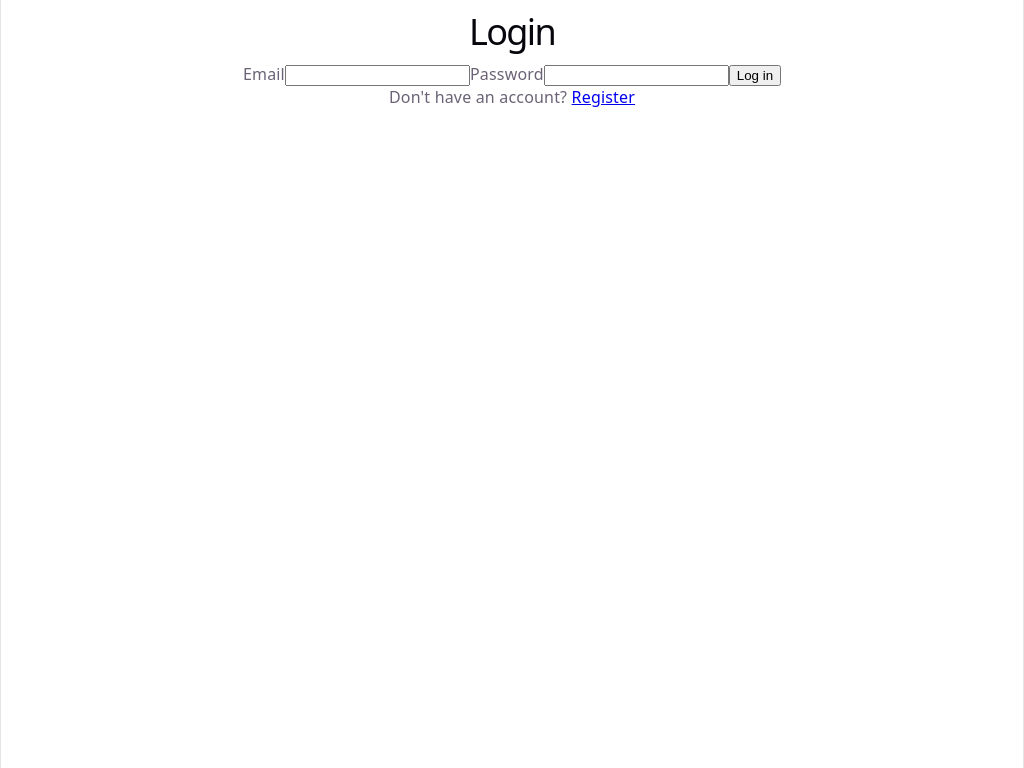
lands on the originally requested page after logging in
The image size is (1024, 768).
Expected: the heading "Login" is shown, [469,7,555,56]
Type "user@example.com" into the field labelled "Email" at (377, 76), box [285,65,470,86]
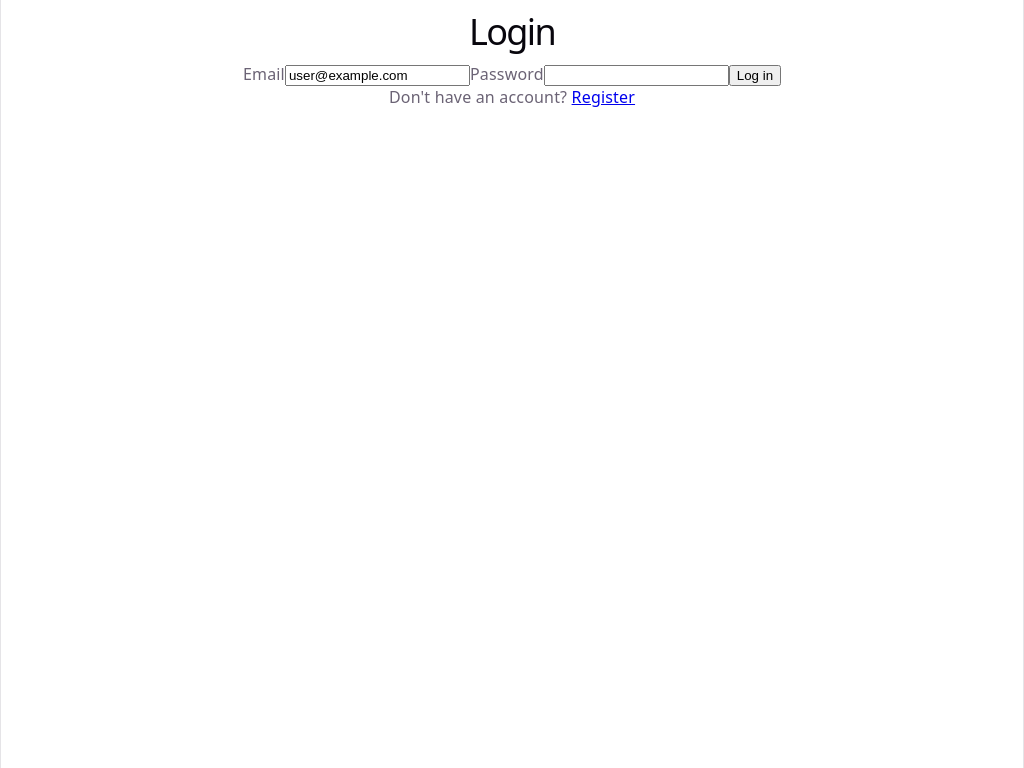
Type "password123" into the password field labelled "Password" at (636, 76), box [544,65,729,86]
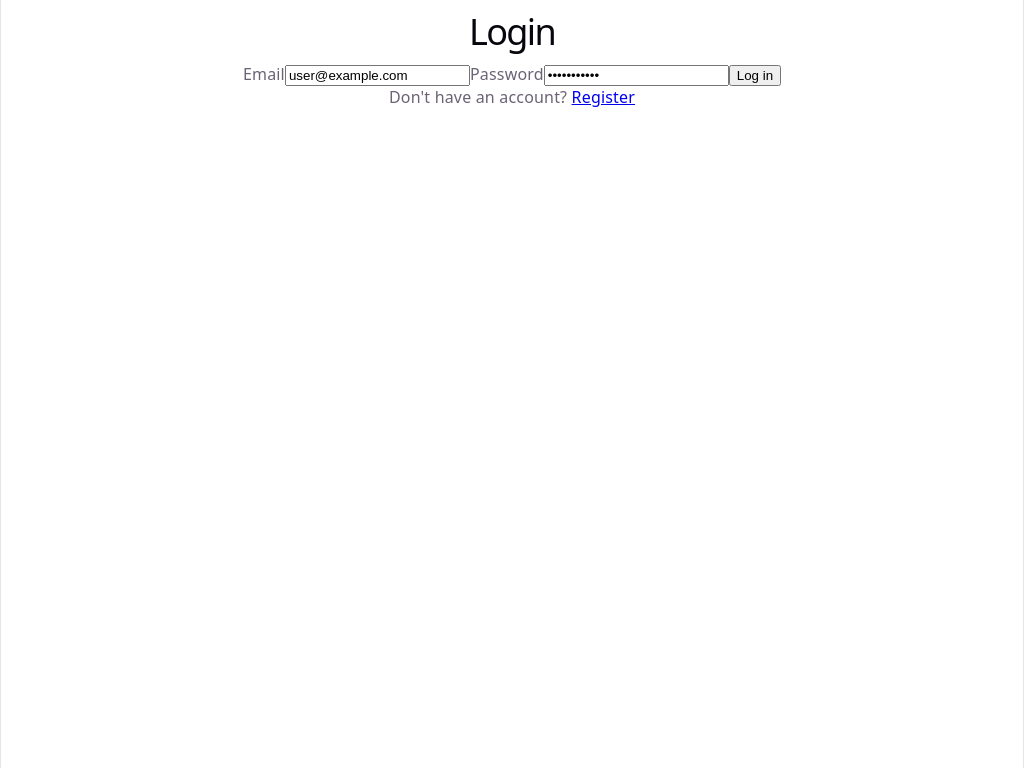
Click the button "Log in" at (755, 76), box [729,65,781,86]
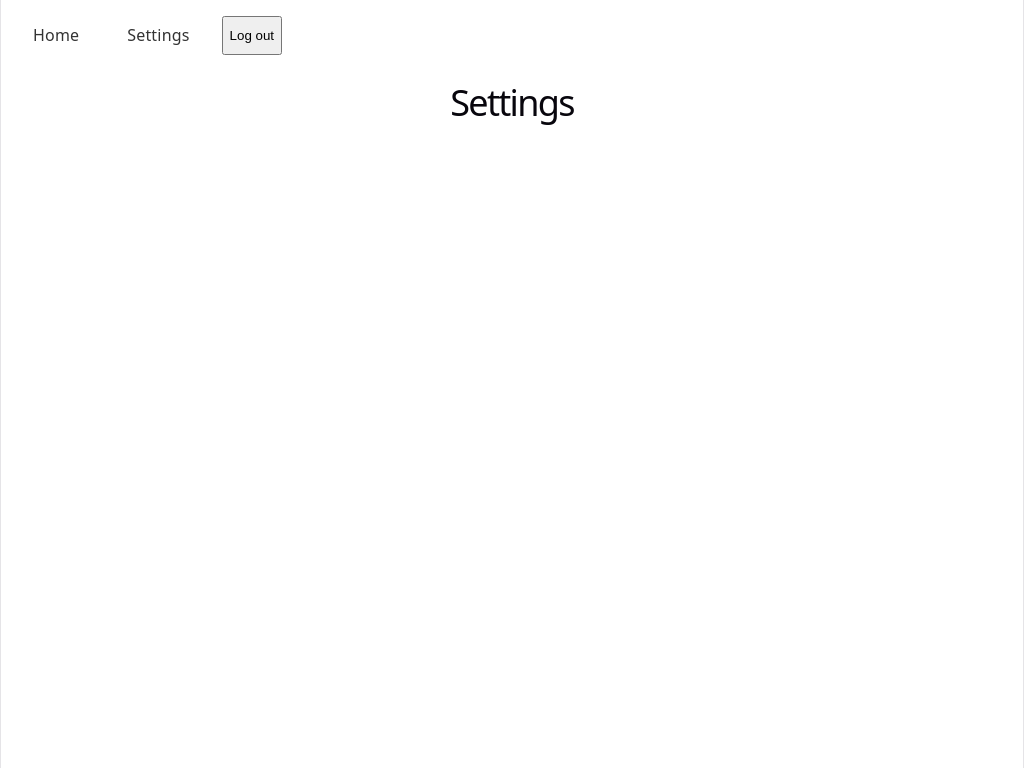
Expected: the heading "Settings" is shown, [450,78,574,127]
